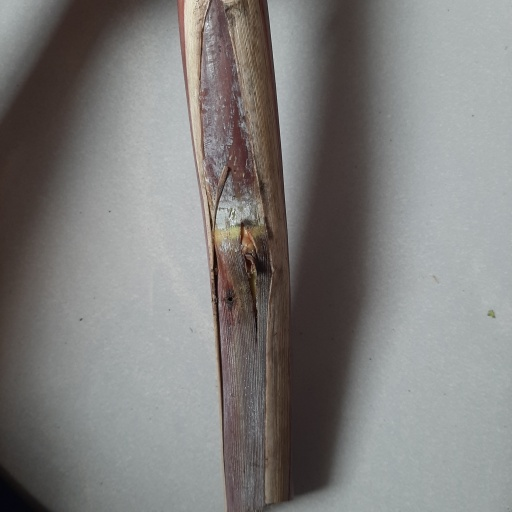Damage_Bud: (238, 225, 261, 314)
